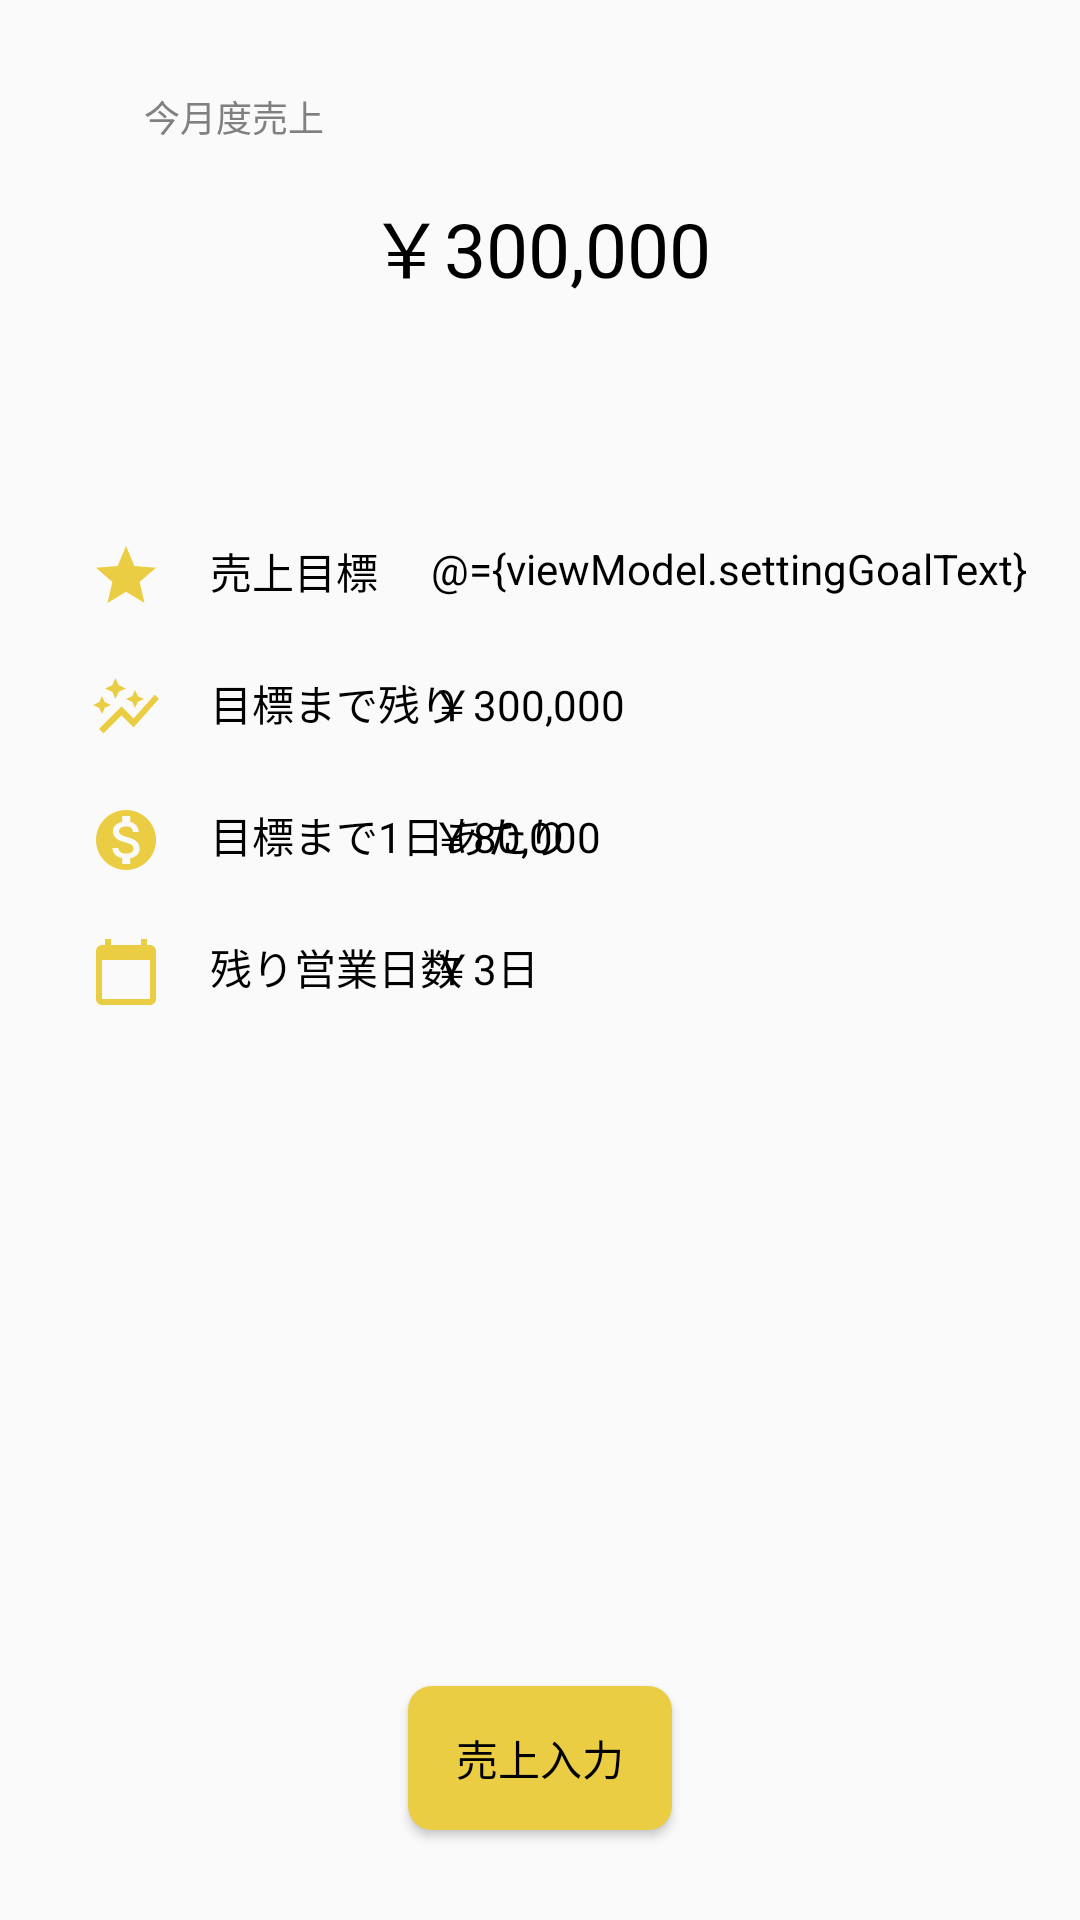

Named icons in this screenshot (1080×1920) and their centers, point (x, y):
auto graph: point (126, 705)
calendar today: point (126, 972)
monetization on: point (126, 840)
star: point (126, 574)
